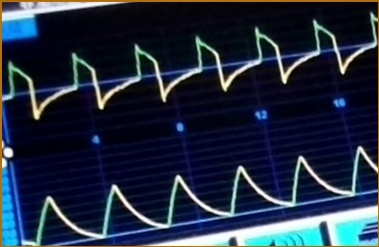Normal Flow: (4, 12, 379, 120)
Normal Volume: (25, 144, 379, 247)
